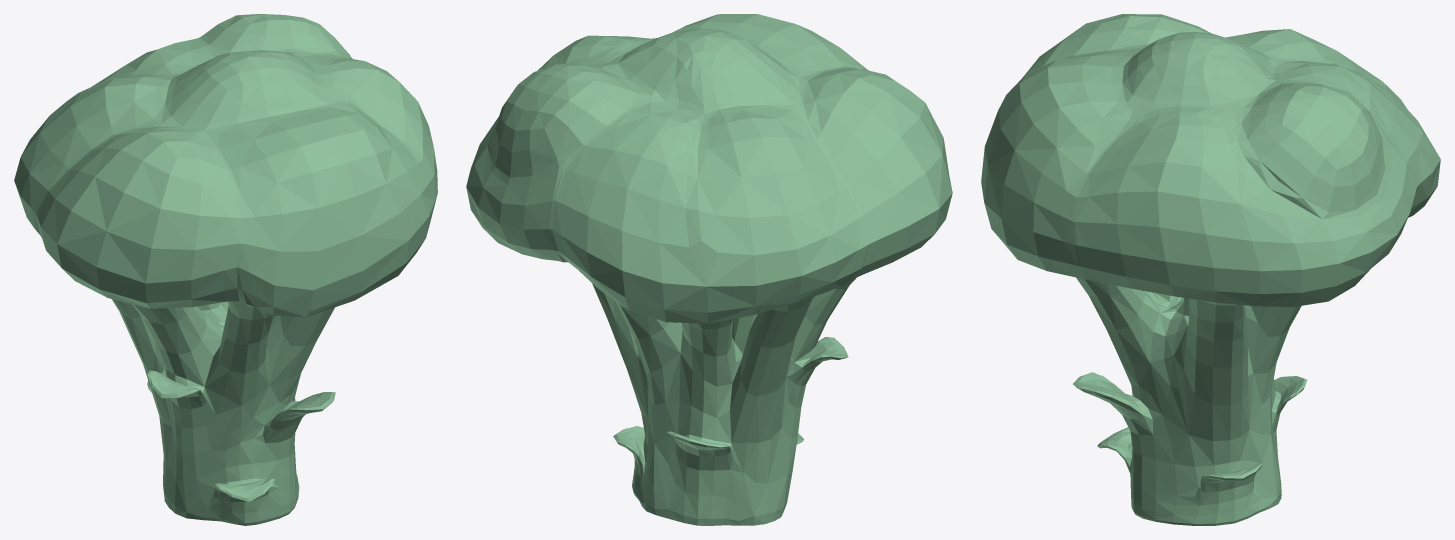
Rendered from brocolis.fbx.
The picture shows the model from 3 angles, left to right: view 1: azimuth 30°, elevation 25°; view 2: azimuth 150°, elevation 25°; view 3: azimuth 270°, elevation 25°; orthographic projection. The views are drawn at different scales.
Visible parts, largest first — view 1: Broccoli; view 2: Broccoli; view 3: Broccoli.
Boxes of the visible parts, x1=… form: Broccoli: x1=14, y1=14, x2=437, y2=525; Broccoli: x1=466, y1=14, x2=952, y2=525; Broccoli: x1=981, y1=14, x2=1440, y2=525.
Bounding box in the file's own units: 310 × 341 × 301.
